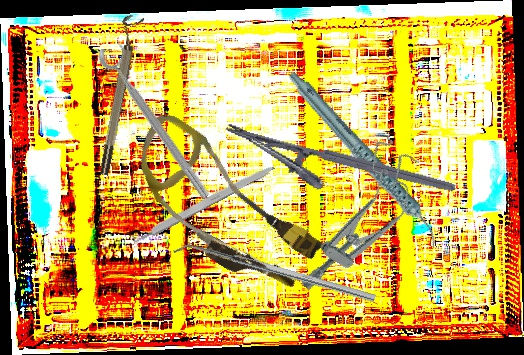Cannula: (108, 108, 338, 306)
Fixation Ring: (94, 37, 223, 203), (90, 13, 145, 177)
Handpiece: (284, 47, 443, 273)
Needle Holder: (215, 120, 457, 225)
Scalpel Handle: (130, 161, 277, 246)
Spatula Surgical: (172, 237, 377, 310)
Speculum: (289, 132, 435, 311)
